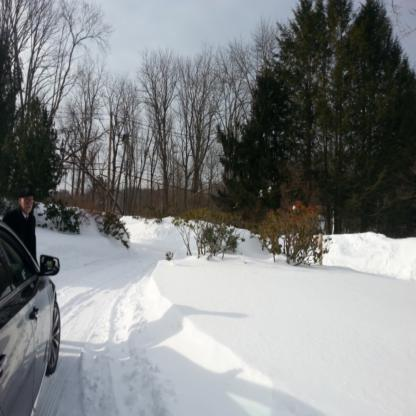Car: (1, 212, 61, 396)
